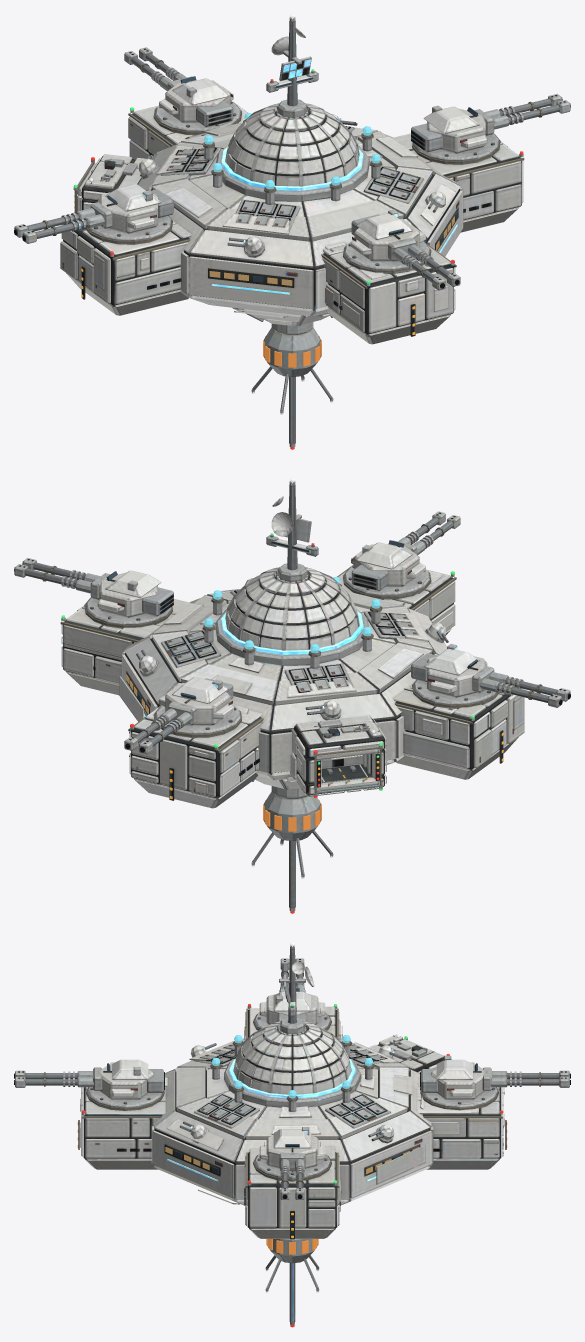
The model's file is defense_platform.glb.
3 renders of one model, top to bottom at view 1: azimuth 30°, elevation 25°; view 2: azimuth 150°, elevation 25°; view 3: azimuth 270°, elevation 25°, orthographic. The views are drawn at different scales.
Visible parts, largest first — view 1: Hull, Lights; view 2: Hull, Lights; view 3: Hull, Lights.
Boxes of the visible parts, x1,y1,x2,y2 form: Hull: (14, 17, 570, 447); Lights: (73, 14, 523, 449); Hull: (14, 481, 570, 911); Lights: (61, 478, 503, 913); Hull: (14, 945, 570, 1325); Lights: (77, 942, 507, 1327).
Bounding box in the file's own units: 93.3 × 71.16 × 93.3.
Materials: 3 (2 with a texture image).
